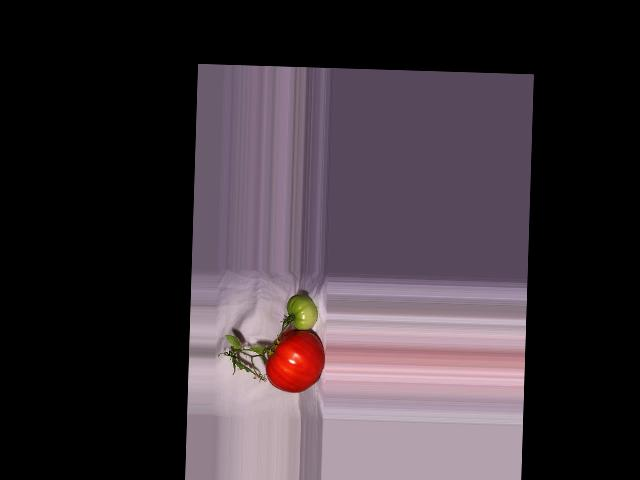tomato: (264, 327, 325, 393)
